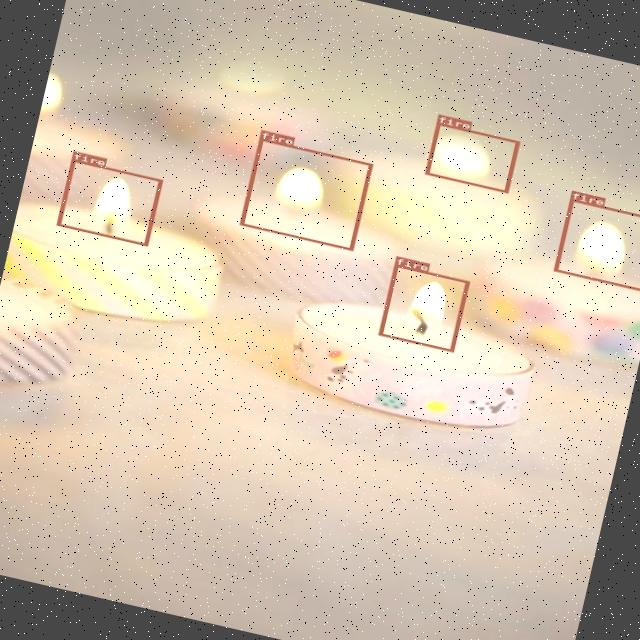fire: (238, 137, 372, 250), (55, 158, 161, 245), (552, 197, 640, 290), (378, 264, 468, 351), (424, 121, 518, 192)
